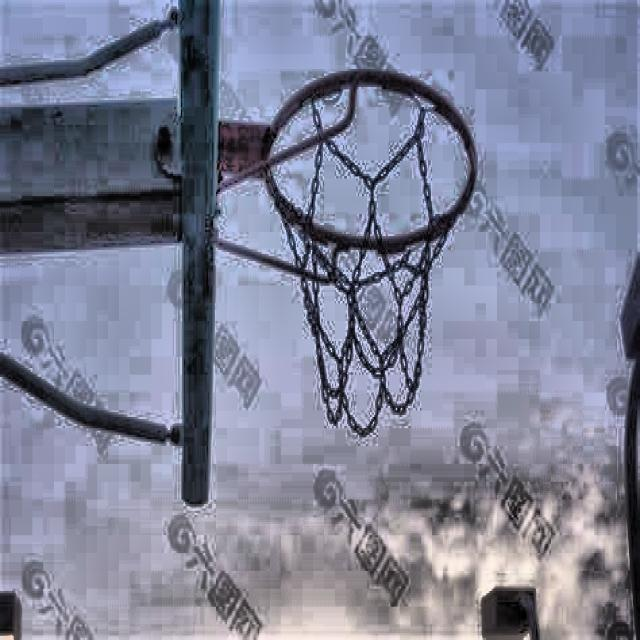rim: (265, 68, 479, 436)
